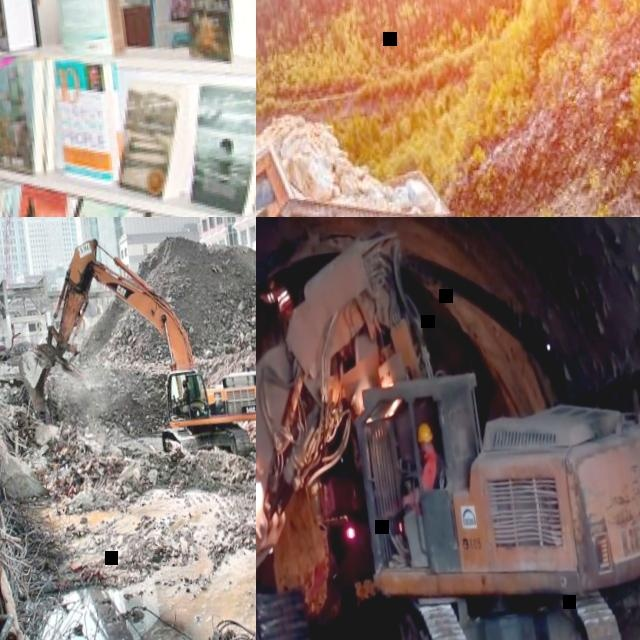Hardhat: (416, 423, 433, 443)
NO-Hardhat: (181, 379, 187, 386)
NO-Mask: (421, 445, 426, 452)
Person: (389, 419, 448, 552), (176, 378, 190, 402)
Safety Vest: (418, 447, 443, 491)
machinery: (256, 217, 640, 640), (5, 217, 256, 487), (256, 115, 479, 217)
